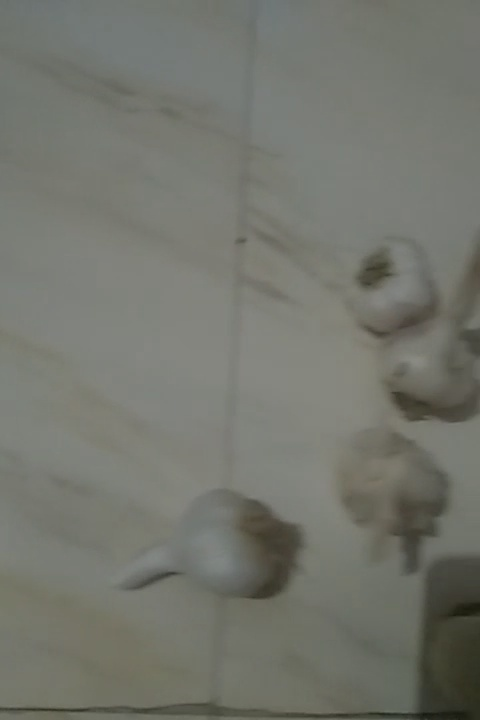garlic: (138, 487, 299, 607), (341, 423, 440, 541), (367, 326, 480, 414), (350, 237, 437, 337)
